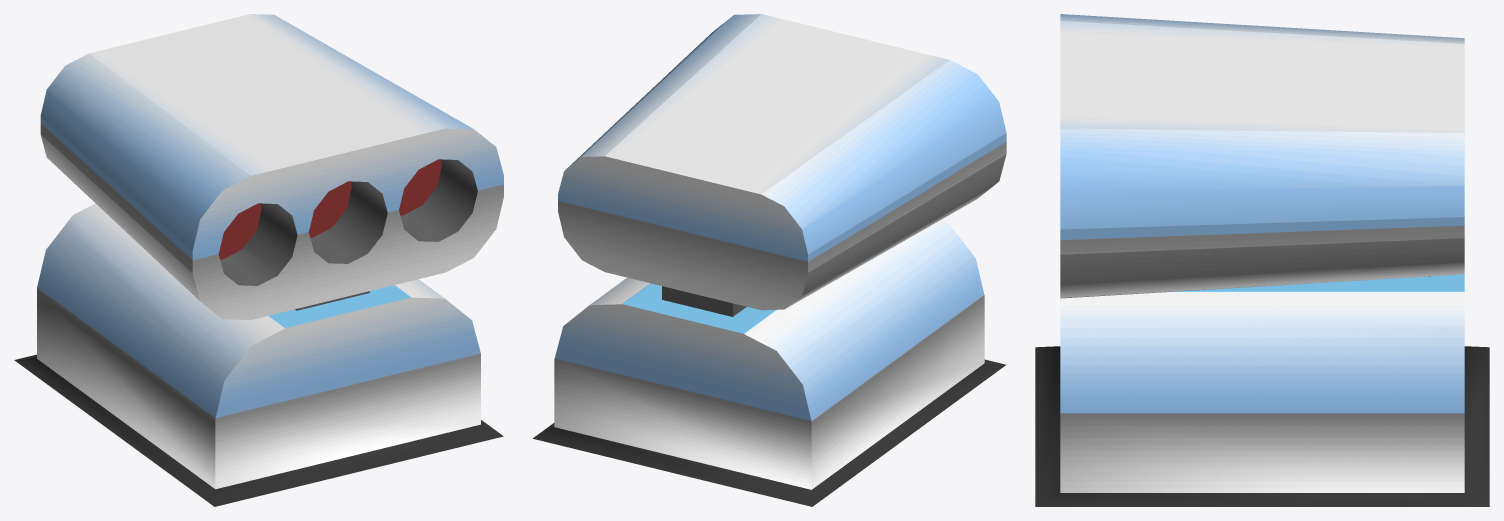
File: car engine.glb
The picture shows the model from 3 angles, left to right: view 1: azimuth 30°, elevation 25°; view 2: azimuth 150°, elevation 25°; view 3: azimuth 270°, elevation 25°; orthographic projection. The views are drawn at different scales.
Visible parts, largest first — view 1: modEngine; view 2: modEngine; view 3: modEngine.
Boxes of the visible parts, x1,y1,x2,y2 form: modEngine: [14, 14, 503, 506]; modEngine: [533, 14, 1006, 506]; modEngine: [1035, 14, 1489, 506].
Bounding box in the file's own units: 0.7564 × 0.7234 × 0.8448.
1 material, 1 textured.
